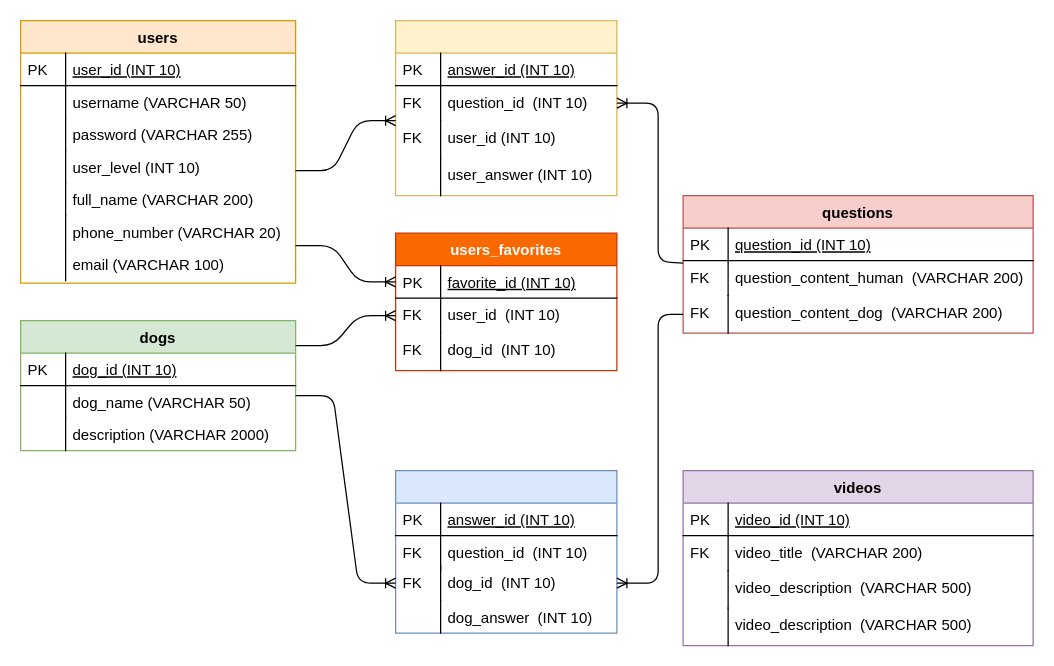
Some shapes in this 1054 by 666 pixel diagram are drawn without their labels. The shapes that lost their labels are listed below. From the top down, each one's box as (x1, y1, x2, y2) in pixels, then its label:
(394, 19, 617, 196): answers_users
(394, 469, 617, 633): answers_dogs
